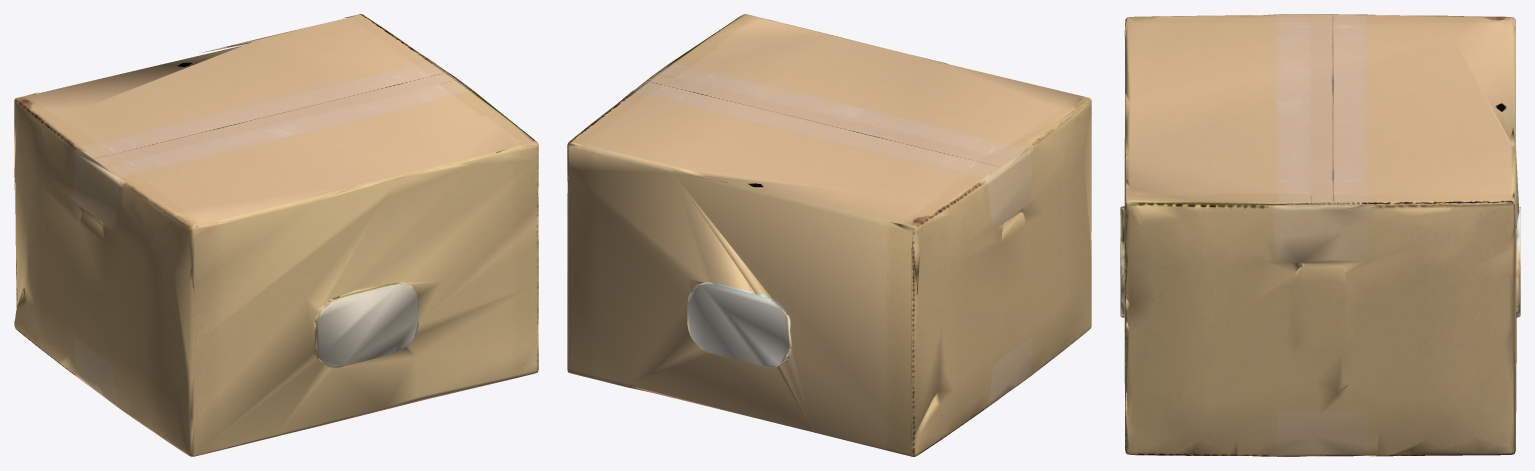
Rendered from Meshy_AI_Brown_cardboard_box_0727011501_texture.fbx.
3 renders of one model, left to right at view 1: azimuth 30°, elevation 25°; view 2: azimuth 150°, elevation 25°; view 3: azimuth 270°, elevation 25°, orthographic. The views are drawn at different scales.
Parts seen in each view (by area): view 1: Mesh1.0; view 2: Mesh1.0; view 3: Mesh1.0.
Part boxes in pixels (left/top/right/bottom): Mesh1.0: left=14, top=14, right=538, bottom=456; Mesh1.0: left=567, top=14, right=1091, bottom=456; Mesh1.0: left=1120, top=14, right=1520, bottom=456.
Size of the model in its own units: 190 by 114 by 163.
1 material, 1 textured.
